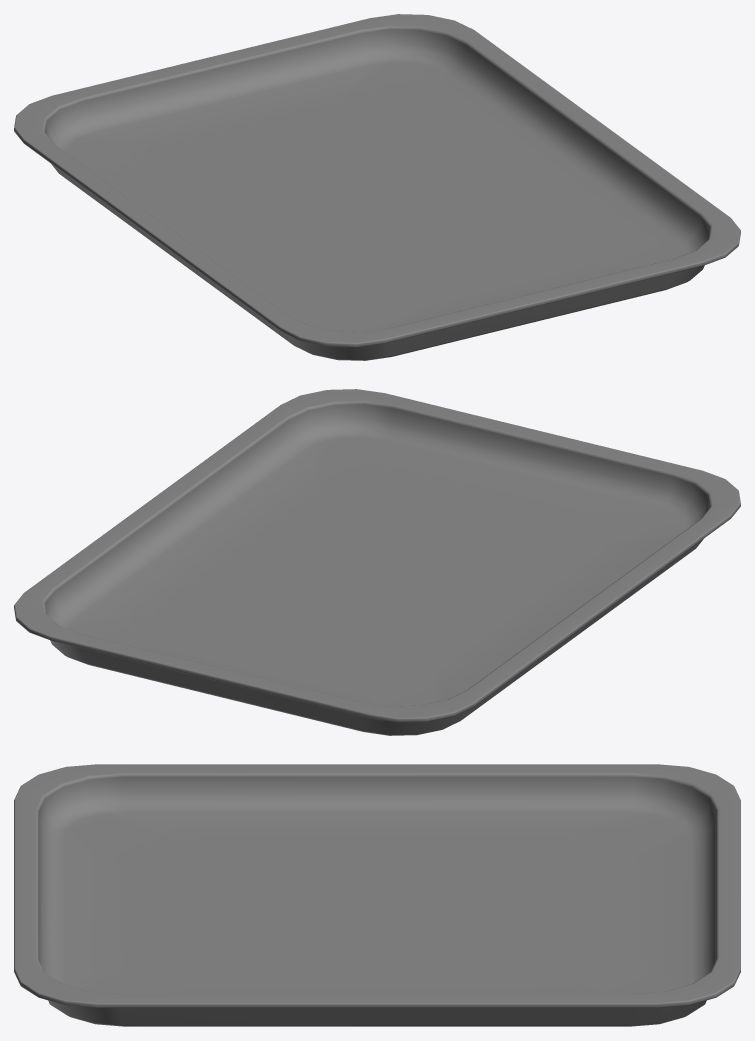
3 views of the same model, one above another, from view 1: azimuth 30°, elevation 25°; view 2: azimuth 150°, elevation 25°; view 3: azimuth 270°, elevation 25° (orthographic). The views are drawn at different scales.
Parts seen in each view (by area): view 1: Tray; view 2: Tray; view 3: Tray.
Part boxes in pixels (x1,y1,x2,y2): Tray: (14,14,740,360); Tray: (14,389,740,735); Tray: (14,764,740,1026).
Bounding box in the file's own units: 27.67 × 2.15 × 35.44.
1 material, 1 textured.
